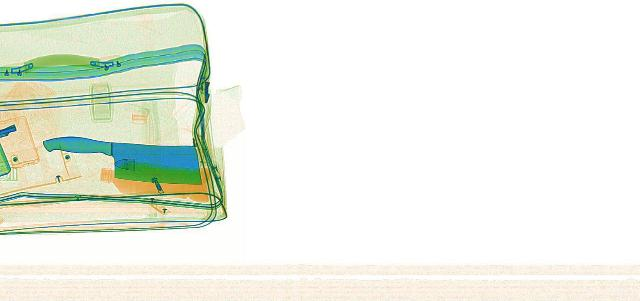Gun: (0, 121, 30, 132)
Knife: (25, 132, 218, 185)
